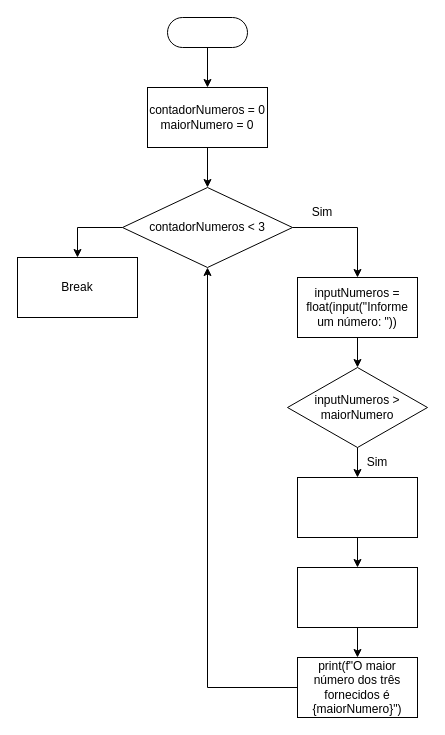
Image size: 445x735. Some labels were removed from this diagram. Each missing label, with the centre of its shape:
"contadorNumeros += 1" belongs at point (357, 597).
"Início" belongs at point (207, 32).
"maiorNumero = inputNumeros" belongs at point (357, 507).
